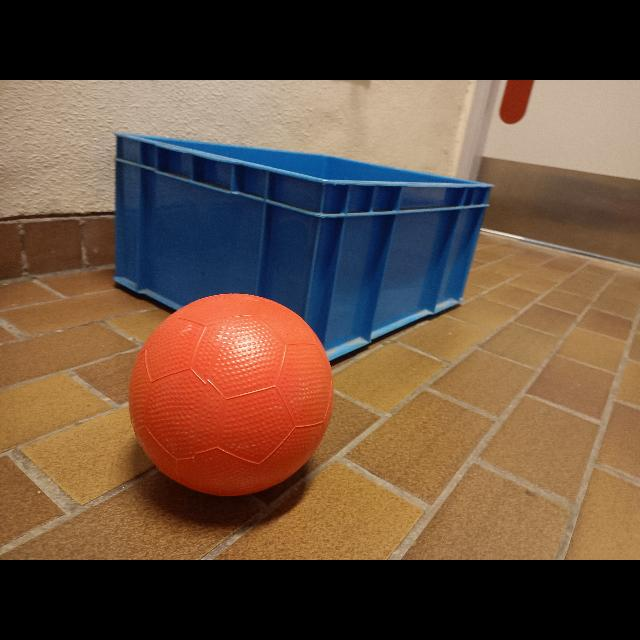R: (119, 291, 337, 503)
